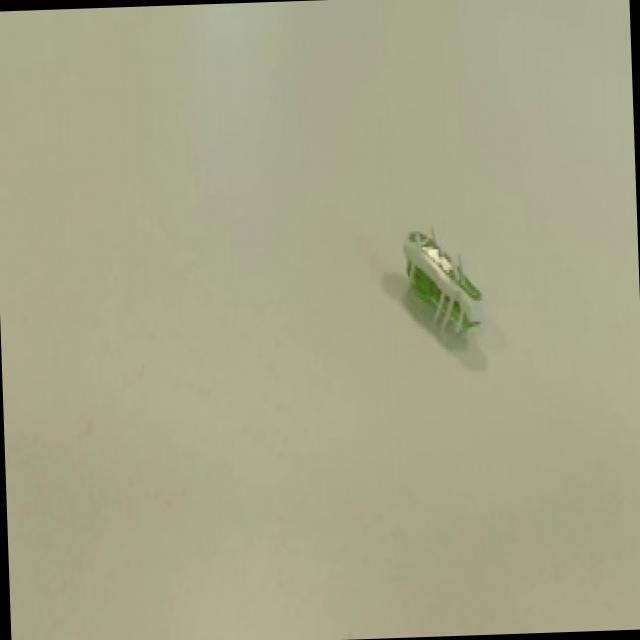4_NanoBug_Blanco: (370, 208, 510, 362)
